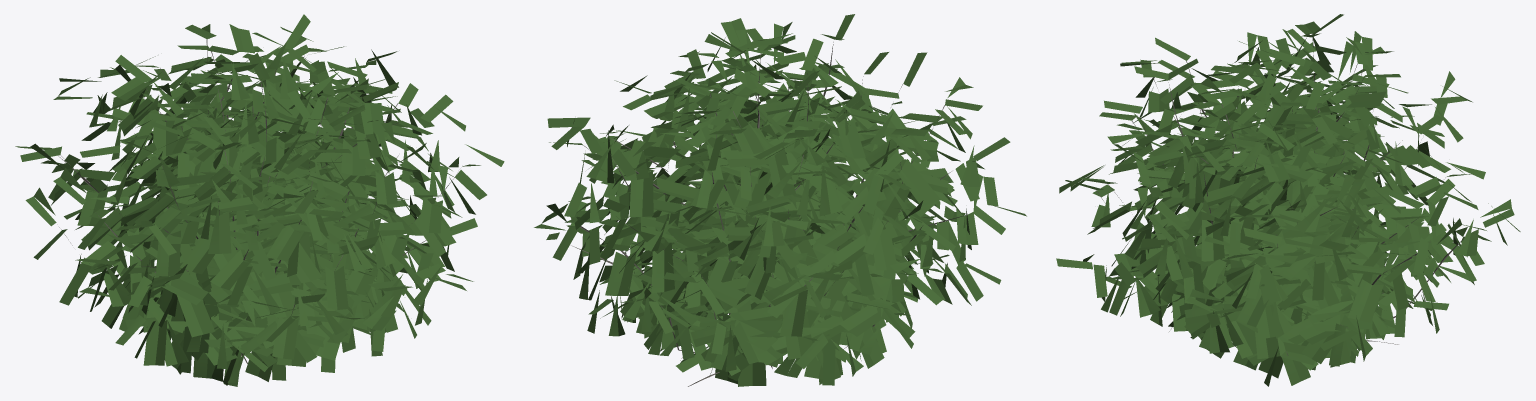
Rendered from shrub_hb.glb.
The picture shows the model from 3 angles, left to right: view 1: azimuth 30°, elevation 25°; view 2: azimuth 150°, elevation 25°; view 3: azimuth 270°, elevation 25°; orthographic projection. The views are drawn at different scales.
Parts seen in each view (by area): view 1: bq_Shrub_Carpinus-betulus_A_summer, bq_Shrub_Carpinus-betulus_A_summer.001; view 2: bq_Shrub_Carpinus-betulus_A_summer, bq_Shrub_Carpinus-betulus_A_summer.001; view 3: bq_Shrub_Carpinus-betulus_A_summer, bq_Shrub_Carpinus-betulus_A_summer.001.
Boxes of the visible parts, <box> form: bq_Shrub_Carpinus-betulus_A_summer: <box>15,14,504,386</box>; bq_Shrub_Carpinus-betulus_A_summer.001: <box>58,39,457,363</box>; bq_Shrub_Carpinus-betulus_A_summer: <box>534,14,1026,386</box>; bq_Shrub_Carpinus-betulus_A_summer.001: <box>571,42,967,386</box>; bq_Shrub_Carpinus-betulus_A_summer: <box>1056,14,1520,386</box>; bq_Shrub_Carpinus-betulus_A_summer.001: <box>1096,33,1463,355</box>.
Bounding box in the file's own units: 1.14 × 0.8707 × 1.23.
